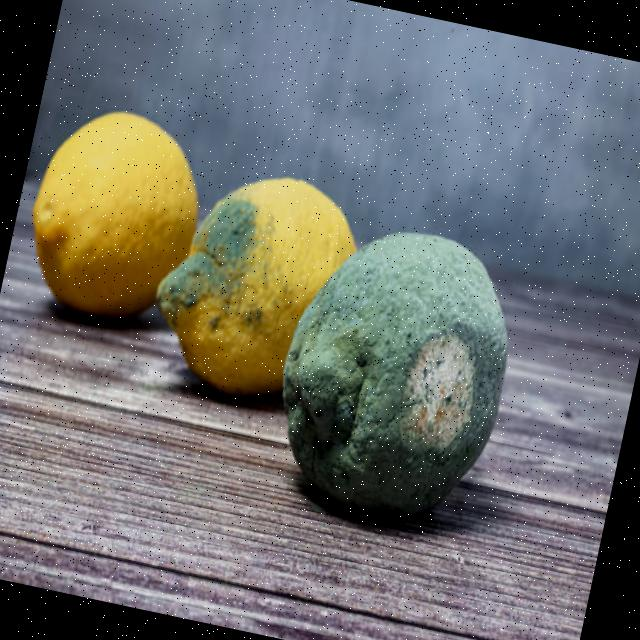Ripe: (16, 95, 214, 330)
Rotten: (260, 210, 529, 527), (141, 158, 366, 406)
